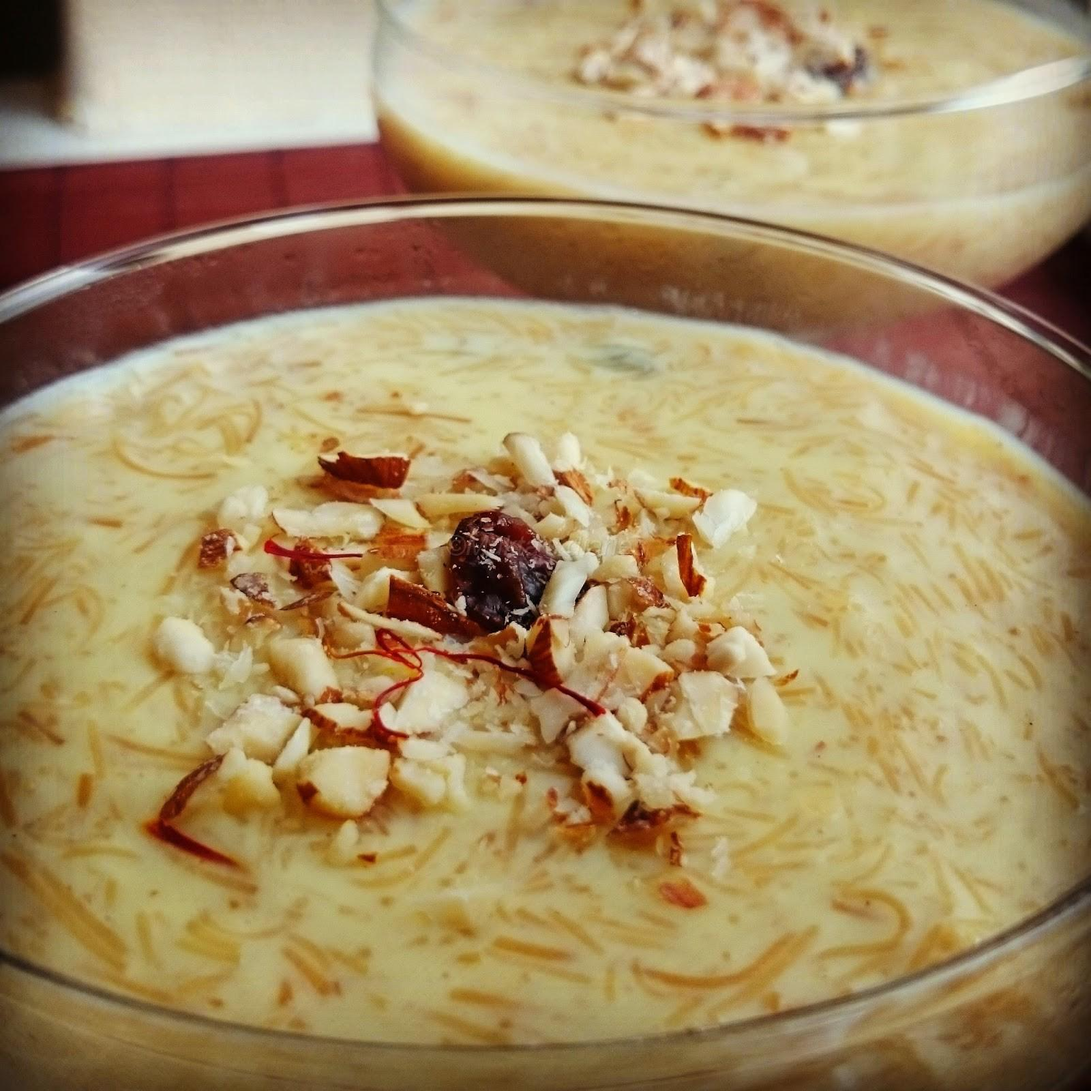Kheer: (0, 305, 1091, 1091), (376, 0, 1091, 317)
